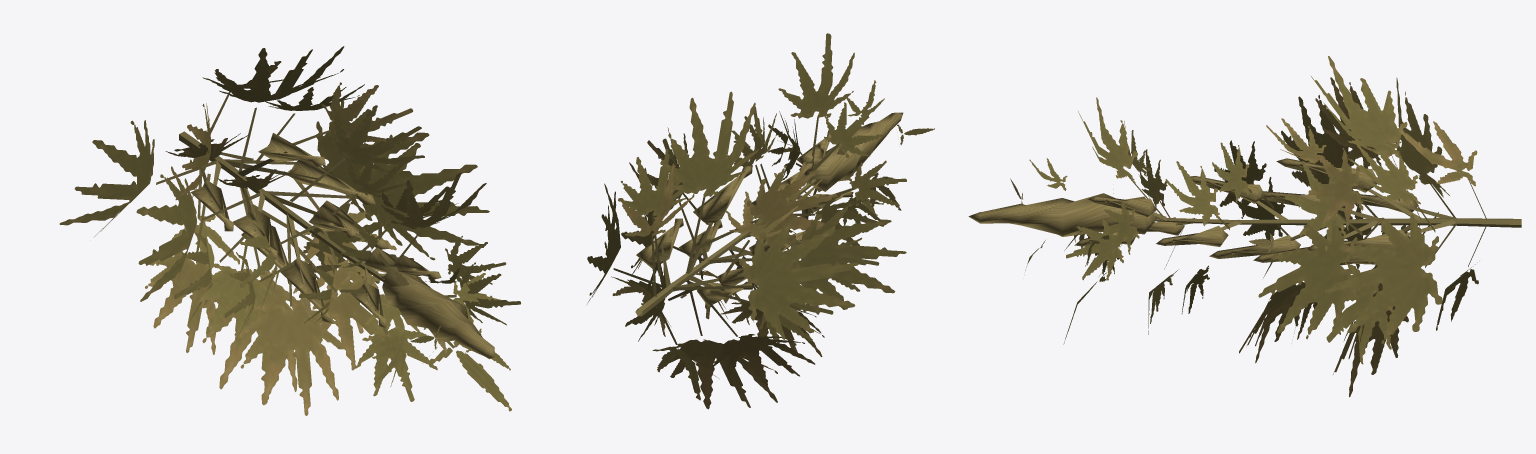
Rendered from p_landrace_ripe_c2_cards.obj.
3 renders of one model, left to right at view 1: azimuth 30°, elevation 25°; view 2: azimuth 150°, elevation 25°; view 3: azimuth 270°, elevation 25°, orthographic. The views are drawn at different scales.
Size of the model in its own units: 1.68 by 1.66 by 2.13.
1 material, 1 textured.
